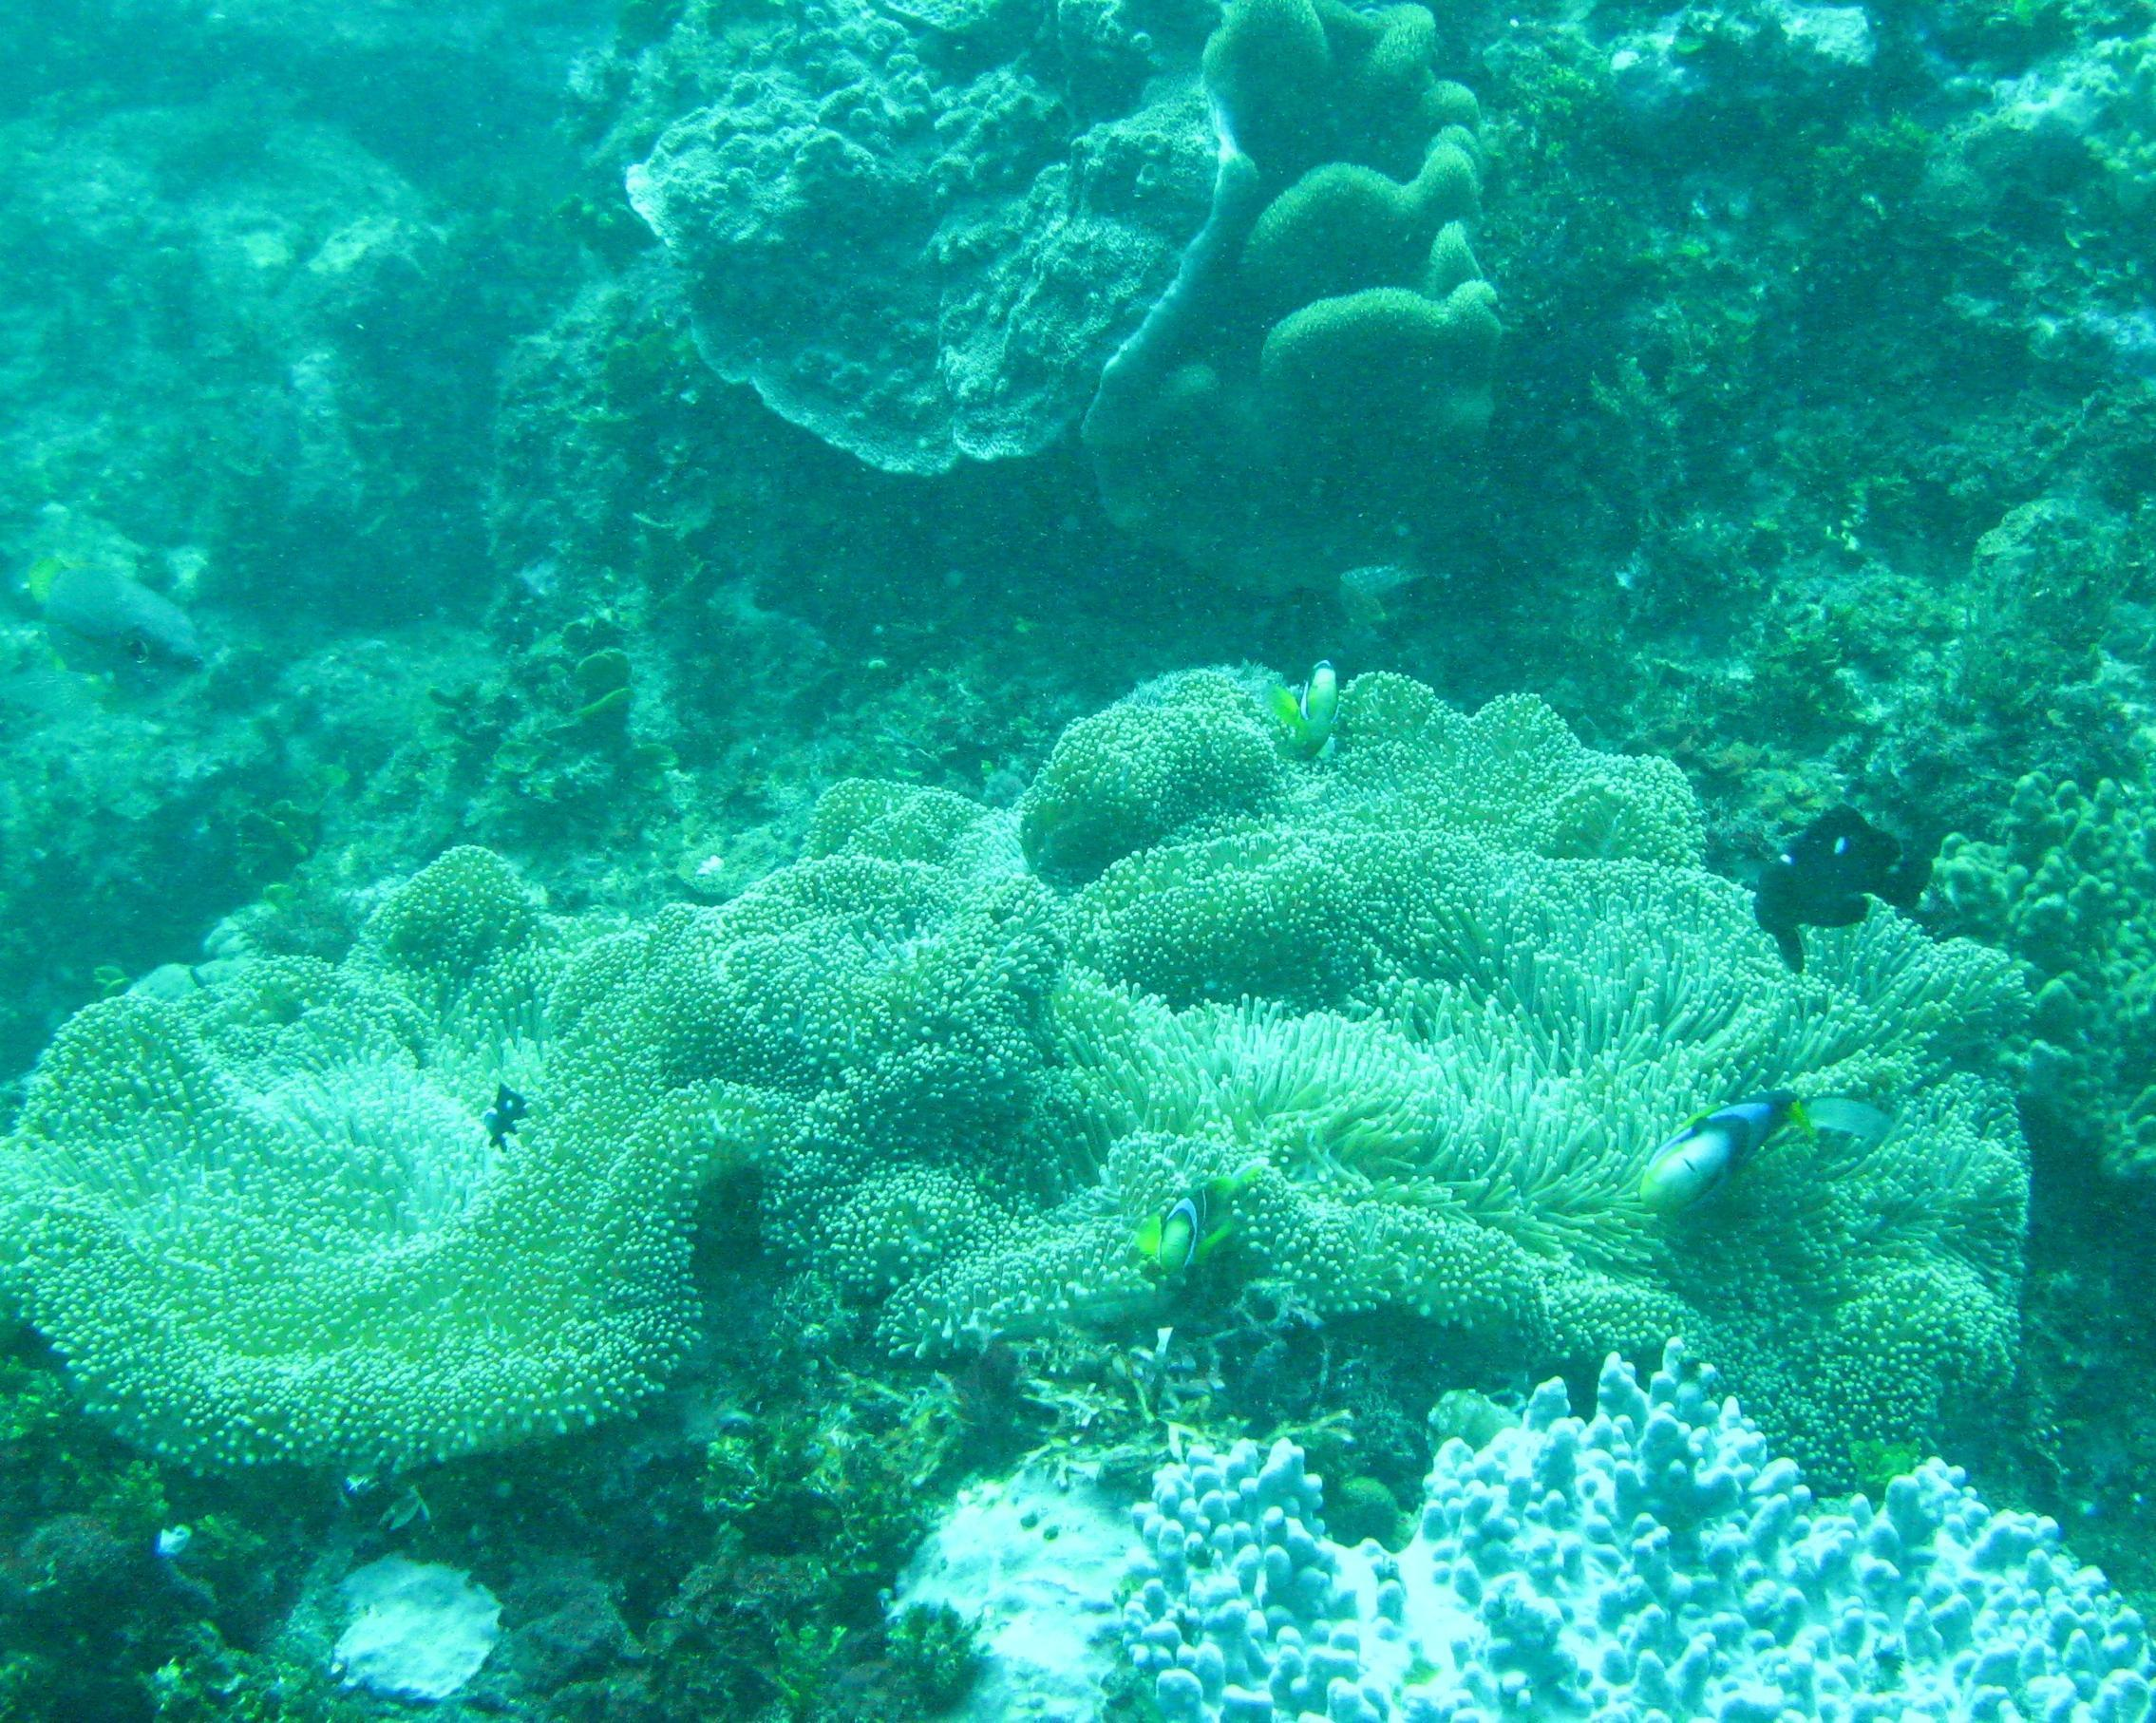Fish: (1634, 1060, 1912, 1218)
